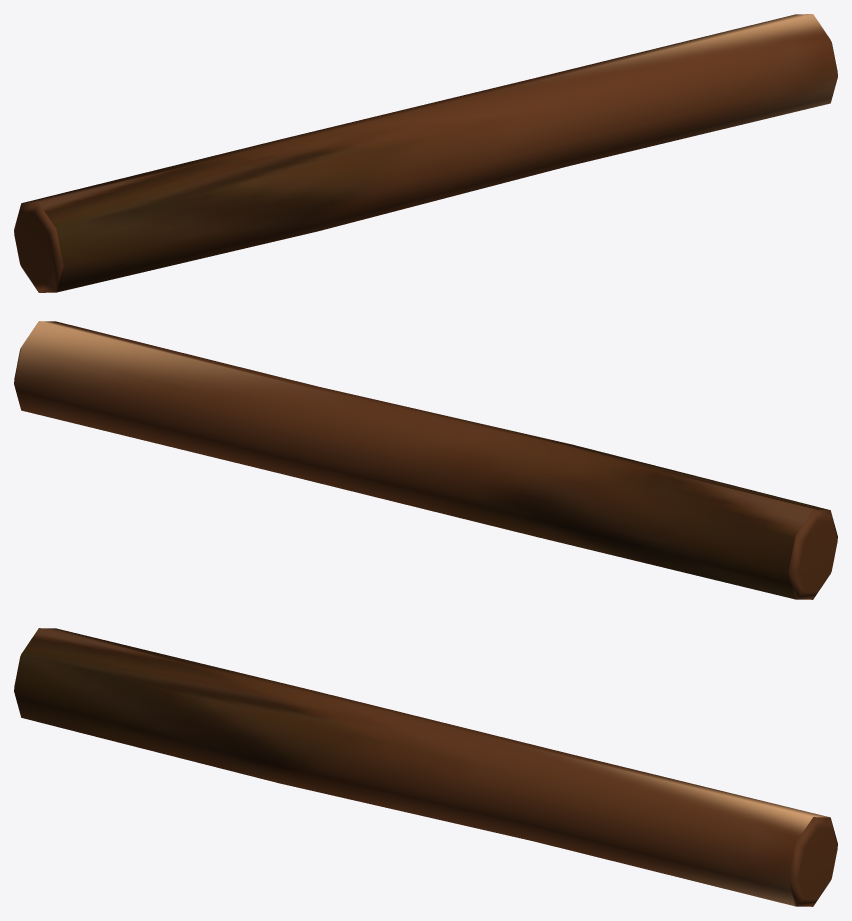
File: big_log_001.fbx
The picture shows the model from 3 angles, top to bottom: view 1: azimuth 30°, elevation 25°; view 2: azimuth 150°, elevation 25°; view 3: azimuth 330°, elevation 25°; orthographic projection.
Parts seen in each view (by area): view 1: big_log_001; view 2: big_log_001; view 3: big_log_001.
Boxes of the visible parts, left/top/right/bottom form: big_log_001: left=14, top=14, right=837, bottom=292; big_log_001: left=14, top=321, right=837, bottom=599; big_log_001: left=14, top=628, right=837, bottom=906.
Bounding box in the file's own units: 12.27 × 1.39 × 1.4.
